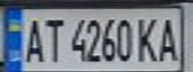0: (115, 15, 136, 63)
2: (81, 15, 103, 63)
4: (66, 14, 87, 63)
6: (100, 15, 121, 63)
A: (154, 14, 181, 63), (21, 13, 45, 64)
K: (136, 14, 160, 63)
T: (39, 15, 66, 64)
